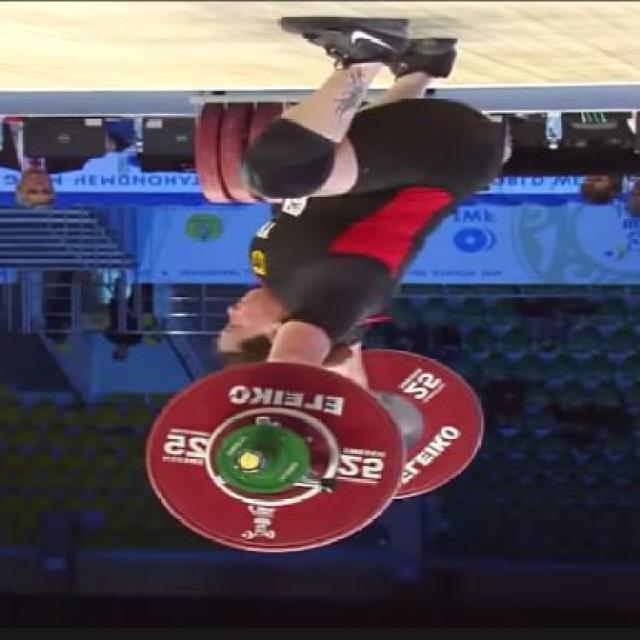Barbell: (228, 441, 276, 474)
